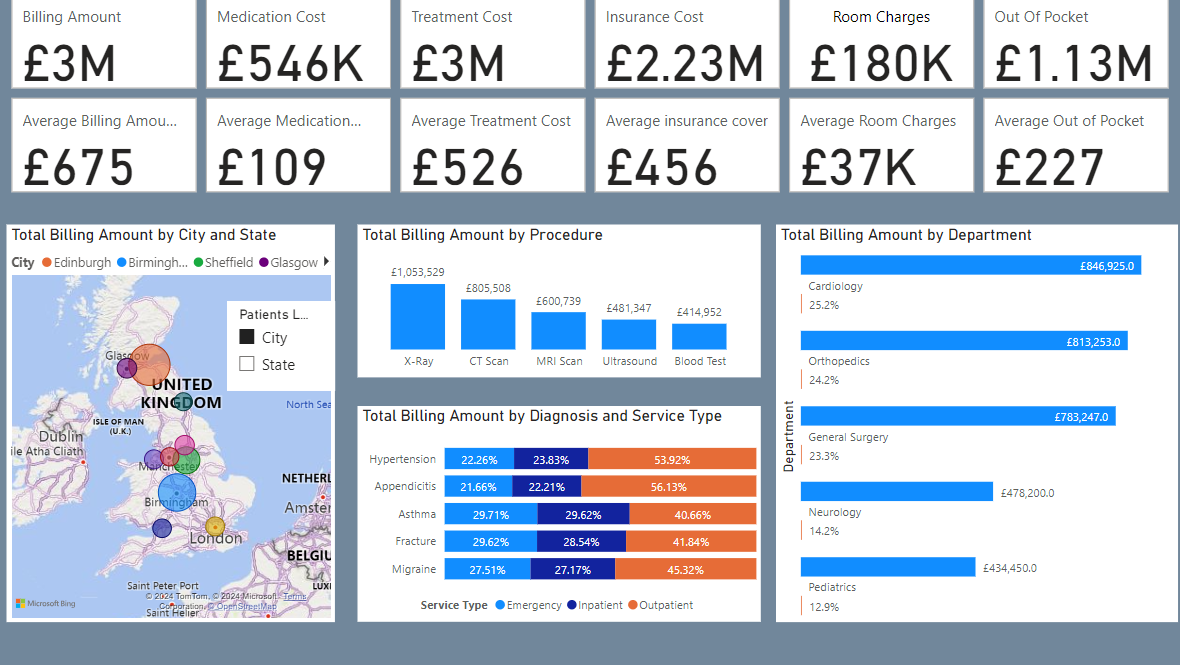

The page's visual inventory and layout, read from the dashboard file:
{"tool":"powerbi","page":{"name":"Page 2","canvas":[1280,720],"ordinal":1},"visuals":[{"type":"cardVisual","fields":{"Data":["Dax Calculations.Total Billing Amount","Dax Calculations.Total medication Cost","Dax Calculations.Total treatment Cost","Dax Calculations.Total Insurance Cost","Dax Calculations.Total Room Charges","Dax Calculations.Out Of Pocket","Dax Calculations.Average Billing Amount Per Visit","Dax Calculations.Average Medication Cost","Dax Calculations.Average Treatment Cost","Dax Calculations.Average insurance cover","Dax Calculations.Average Room Charges","Dax Calculations.Average Out of Pocket"]},"box":[27,0,1241.3,220.9],"z":0},{"type":"columnChart","fields":{"Category":["procedures.Procedure"],"Y":["Dax Calculations.Total Billing Amount"]},"box":[398.9,249.5,427.5,162.1],"z":1000},{"type":"map","title":"Total Billing Amount by City and State","fields":{"Category":["cities.City"],"Size":["Dax Calculations.Total Billing Amount"],"Series":["cities.City"]},"box":[27,249.5,348.1,421.2],"z":2000},{"type":"slicer","fields":{"Values":["Patients Location Switch.Patients Location Switch"]},"box":[260.7,330.6,114.4,95.4],"z":3000},{"type":"hundredPercentStackedBarChart","fields":{"Y":["Dax Calculations.Total Billing Amount"],"Category":["diagnoses.Diagnosis"],"Series":["visits.Service Type"]},"box":[398.9,441.9,427.5,228.9],"z":4000},{"type":"clusteredBarChart","title":"Total Billing Amount by Department","fields":{"Category":["departments.Department"],"Y":["Dax Calculations.Total Billing Amount","Dax Calculations.Blank Measures","Dax Calculations.% Department"]},"box":[842.4,249.5,426,421.2],"z":5000}]}

Visuals, with their boxes in screenshot pixels (x1, y1, x2, y2), scaled from the page's 1280x720 canvas onto the 1180x665 screenshot:
cardVisual - Dax Calculations.Total Billing Amount x Dax Calculations.Total medication Cost: Rect(25, 0, 1169, 204)
columnChart - procedures.Procedure x Dax Calculations.Total Billing Amount: Rect(368, 230, 762, 380)
"Total Billing Amount by City and State" map: Rect(25, 230, 346, 619)
slicer - Patients Location Switch.Patients Location Switch: Rect(240, 305, 346, 393)
hundredPercentStackedBarChart - Dax Calculations.Total Billing Amount x diagnoses.Diagnosis: Rect(368, 408, 762, 620)
"Total Billing Amount by Department" clusteredBarChart: Rect(777, 230, 1169, 619)
